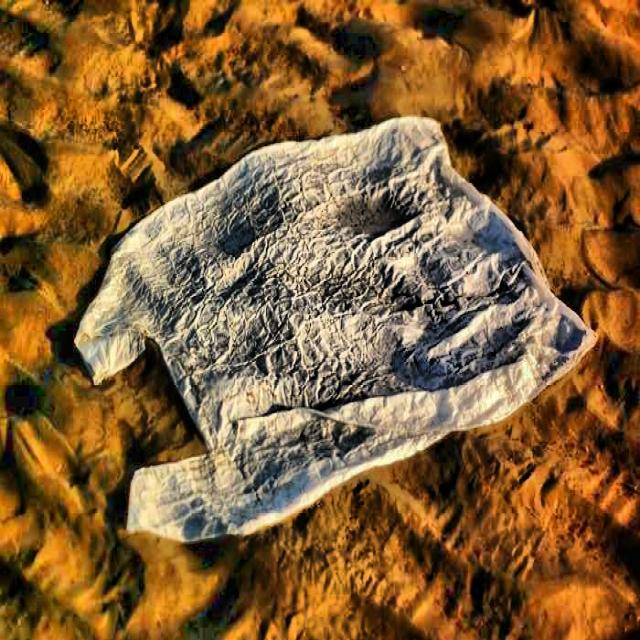Plastic: (79, 92, 603, 562)
